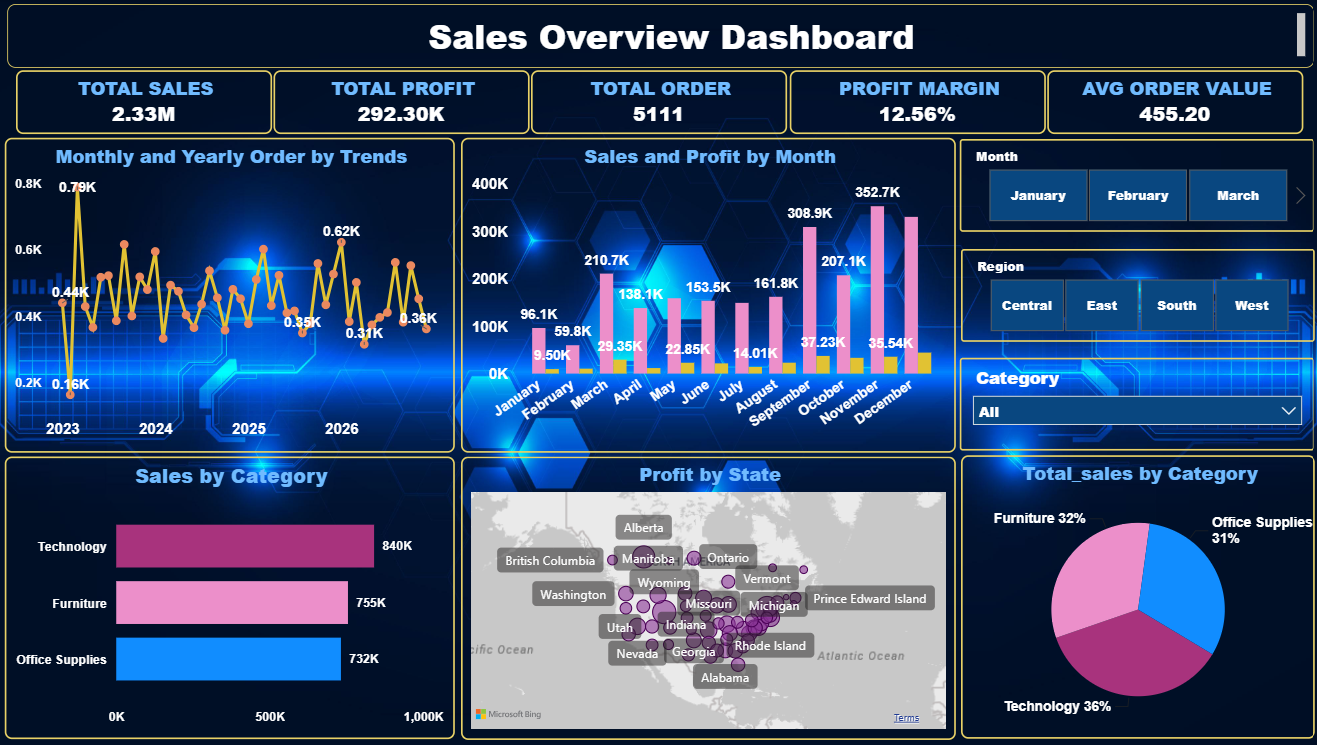

Layout of this report page (visuals, bound fields, positions):
{"tool":"powerbi","page":{"name":" Sales Overview Dashboard","canvas":[1280,720],"ordinal":0},"visuals":[{"type":"textbox","box":[10.9,4.8,1261.9,61.5],"z":0},{"type":"card","title":"TOTAL SALES","fields":{"Values":["Orders.Total_sales"]},"box":[19.3,68.8,247.3,61.5],"z":1000},{"type":"card","title":"TOTAL PROFIT","fields":{"Values":["Orders.Total_Profit"]},"box":[268,68.8,247.3,61.5],"z":2000},{"type":"card","title":"TOTAL ORDER","fields":{"Values":["Orders.TOTAL_ORDER"]},"box":[516.4,68.8,247.3,61.5],"z":3000},{"type":"card","title":"PROFIT MARGIN ","fields":{"Values":["Orders.PROFIT_MARGIN %"]},"box":[766.3,68.8,247.3,61.5],"z":4000},{"type":"card","title":"AVG ORDER VALUE","fields":{"Values":["Orders.AVG_ORDER"]},"box":[1014.8,68.8,247.3,61.5],"z":5000},{"type":"lineChart","title":"Monthly and Yearly Order by Trends","fields":{"Y":["Orders.AVG_ORDER"],"Category":["Orders.Order Date.Variation.Date Hierarchy.Year","Orders.Order Date.Variation.Date Hierarchy.Month"]},"box":[8.2,133.9,434.3,304],"z":6000},{"type":"clusteredColumnChart","title":"Sales and Profit by Month","fields":{"Y":["Orders.Total_sales","Orders.Total_Profit"],"Category":["Orders.Order Date.Variation.Date Hierarchy.Month"]},"box":[448.8,133.9,477.8,304],"z":7000},{"type":"clusteredBarChart","title":"Sales by Category","fields":{"Y":["Orders.Total_sales"],"Category":["Orders.Category"]},"box":[8.2,441.6,434.3,272.7],"z":8000},{"type":"map","title":"Profit by State","fields":{"Size":["Orders.AVG_ORDER"],"X":["Orders.Total_Profit"],"Category":["Orders.State/Province"]},"box":[448.8,441.6,477.8,273.9],"z":9000},{"type":"pieChart","fields":{"Category":["Orders.Category"],"Y":["Orders.Total_sales"]},"box":[931.4,440.4,342.6,273.9],"z":10000},{"type":"slicer","fields":{"Values":["Orders.Order Date.Variation.Date Hierarchy.Month"]},"box":[930.2,135.1,342.6,89.3],"z":11000},{"type":"slicer","fields":{"Values":["Orders.Region"]},"box":[931.4,241.3,342.6,89.3],"z":12000},{"type":"slicer","fields":{"Values":["Orders.Category"]},"box":[930.2,346.2,342.6,89.3],"z":13000}]}

Visuals, with their boxes in screenshot pixels (x1, y1, x2, y2), scaled from the page's 1280x720 canvas onto the 1317x745 screenshot:
textbox: rect(11, 5, 1310, 69)
"TOTAL SALES" card: rect(20, 71, 274, 135)
"TOTAL PROFIT" card: rect(276, 71, 530, 135)
"TOTAL ORDER" card: rect(531, 71, 786, 135)
"PROFIT MARGIN " card: rect(788, 71, 1043, 135)
"AVG ORDER VALUE" card: rect(1044, 71, 1299, 135)
"Monthly and Yearly Order by Trends" lineChart: rect(8, 139, 455, 453)
"Sales and Profit by Month" clusteredColumnChart: rect(462, 139, 953, 453)
"Sales by Category" clusteredBarChart: rect(8, 457, 455, 739)
"Profit by State" map: rect(462, 457, 953, 740)
pieChart - Orders.Category x Orders.Total_sales: rect(958, 456, 1311, 739)
slicer - Orders.Order Date.Variation.Date Hierarchy.Month: rect(957, 140, 1310, 232)
slicer - Orders.Region: rect(958, 250, 1311, 342)
slicer - Orders.Category: rect(957, 358, 1310, 451)
